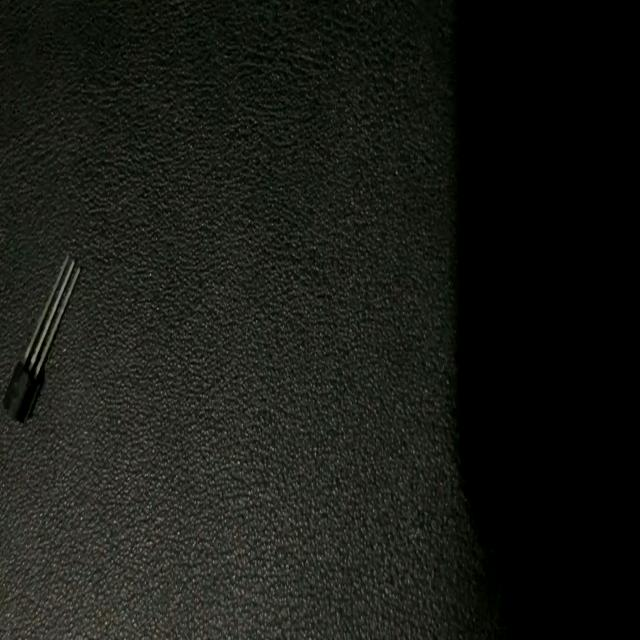BJT: (3, 254, 79, 427)
